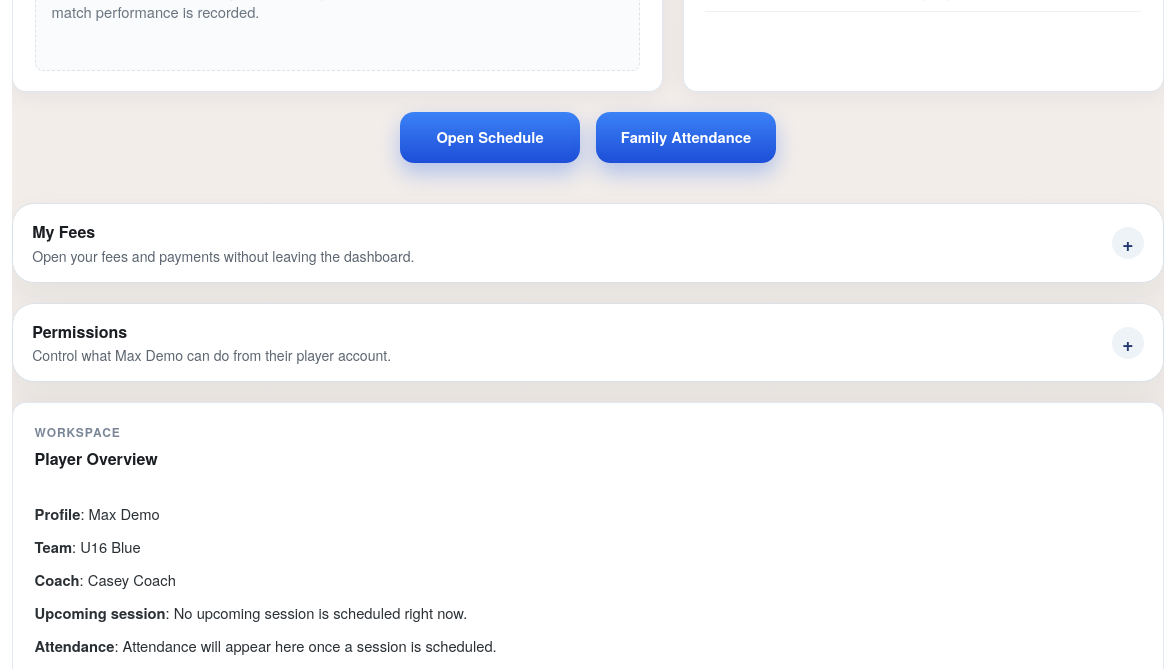
Test: MemberPlayerDashboard parent view › shows the linked player name and updates parent permissions
(page scrolled)
Click the button "Permissions".
click(80, 331)  # box [13,304,1163,382]
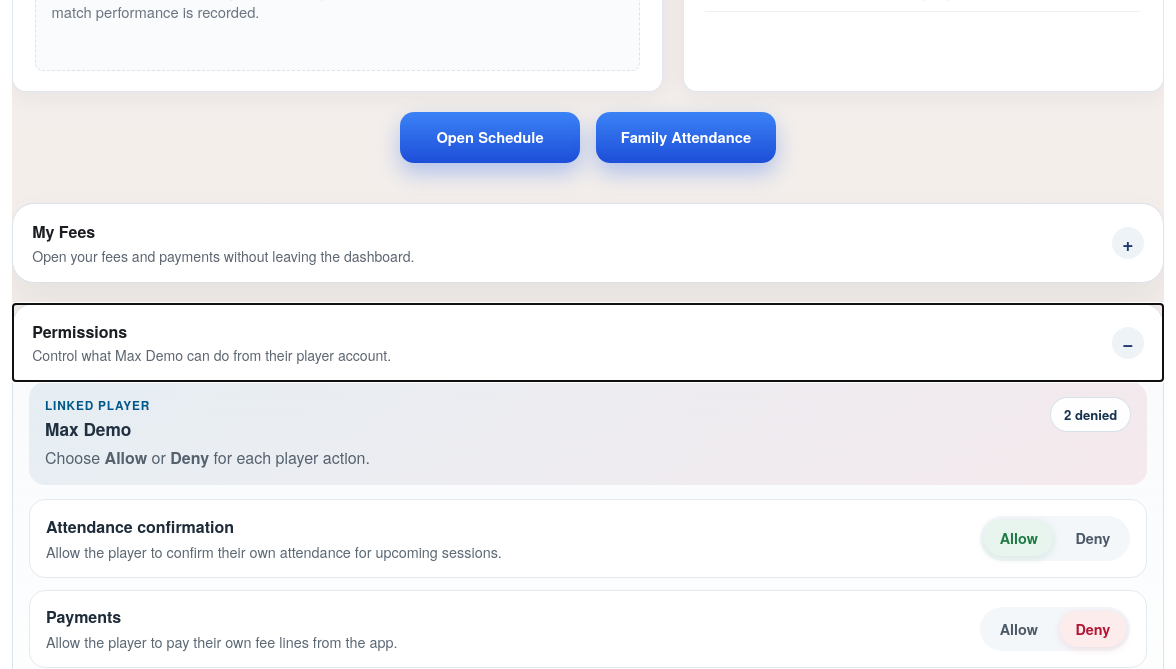
Expected: the text "Attendance confirmation" is shown, [46,514,234,538]
Click the button "Deny" in the row of "Attendance confirmation".
click(1093, 538)  # box [1060,520,1126,556]
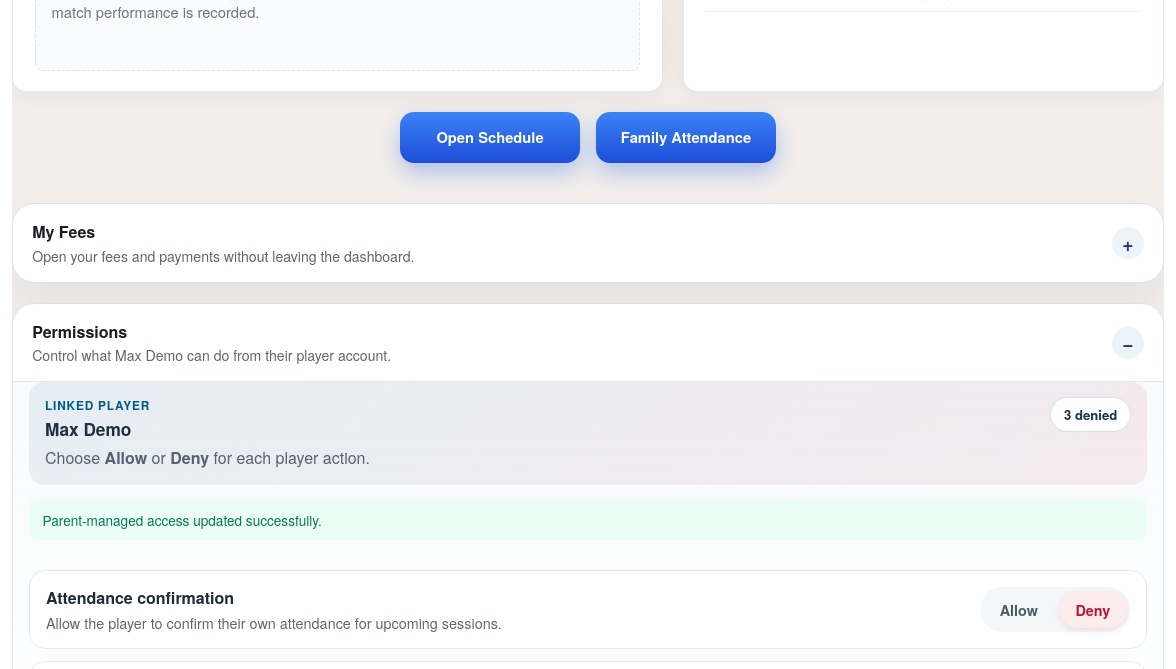
Expected: the text "Parent-managed access updated successfully." is shown, [29,499,1147,540]
